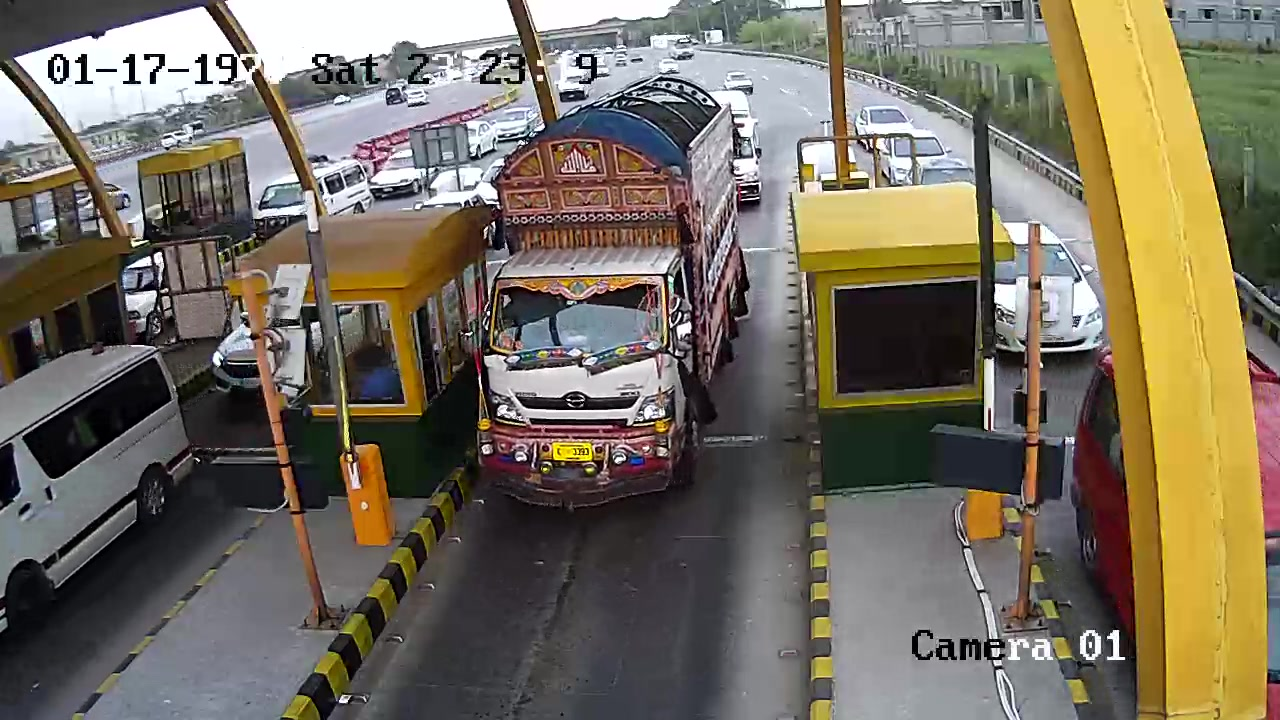F5: (471, 77, 749, 510)
